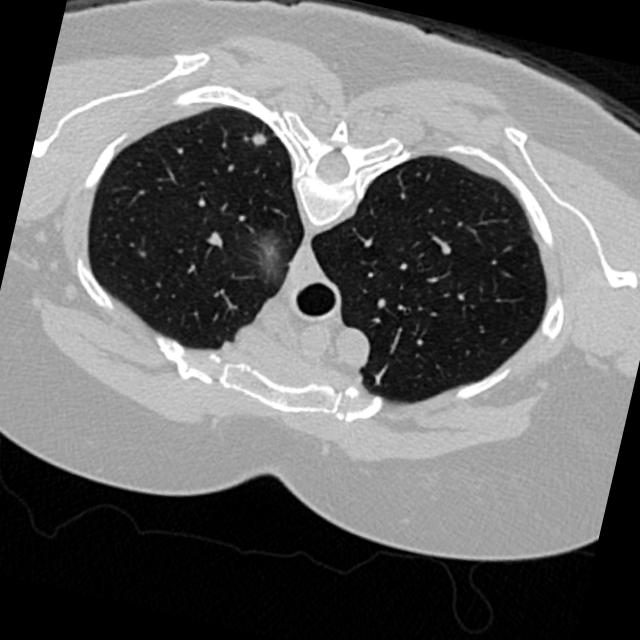nodule: (242, 124, 276, 158)
